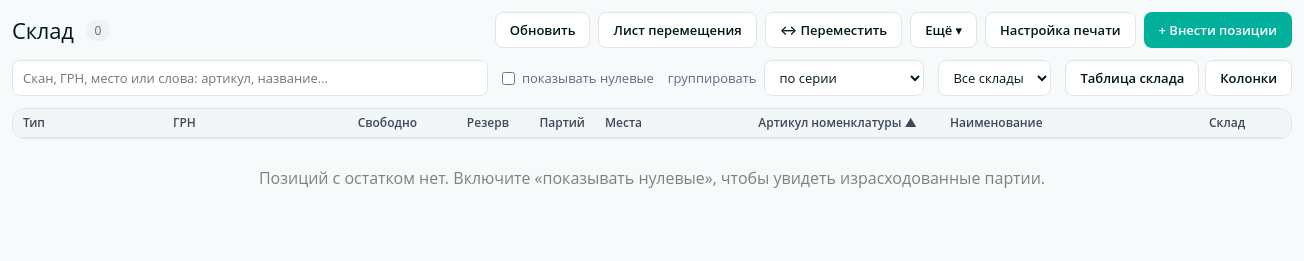
Scenario: warns instead of printing when nothing is waiting to be put away
Click the button "Лист перемещения" at coordinates (678, 30), box [598,12,757,48]
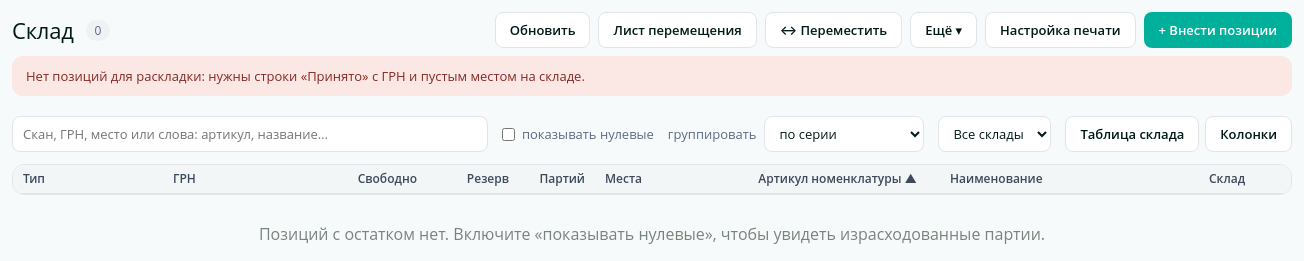
Now the message shows "Нет позиций для раскладки", box [26,67,585,85]
